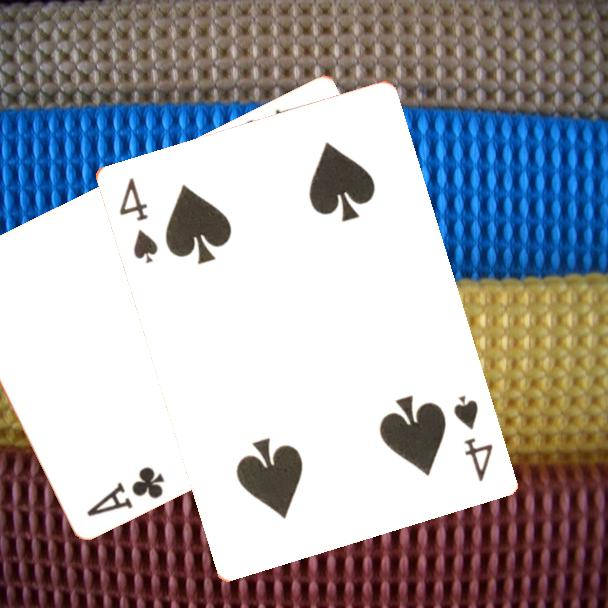c01: (83, 462, 168, 519)
s04: (449, 391, 496, 484), (115, 174, 161, 267)
